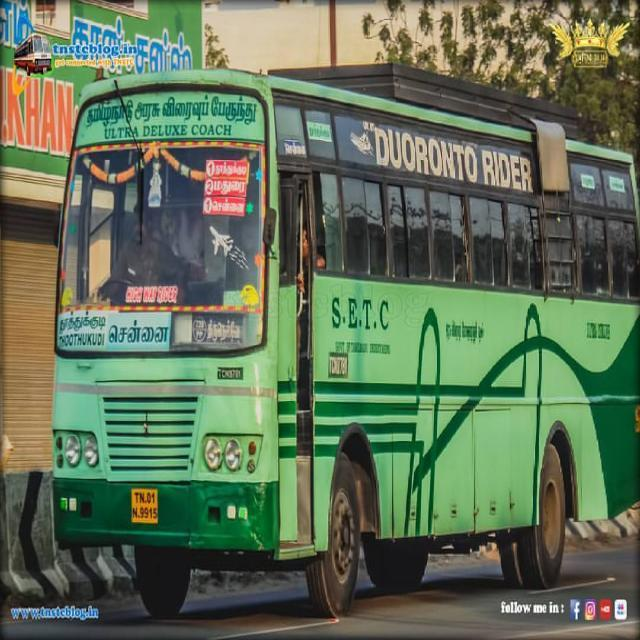Bus: (44, 61, 640, 616)
